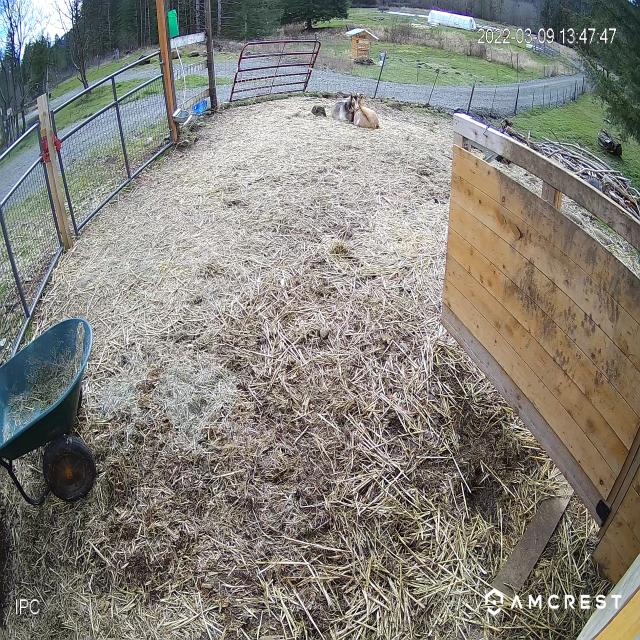goat: (317, 89, 357, 128), (355, 90, 381, 136)
